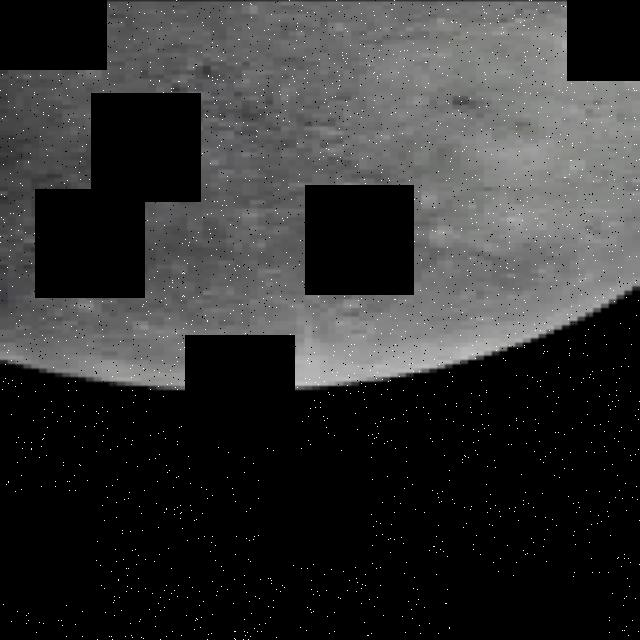Mercury: (0, 0, 640, 394)
